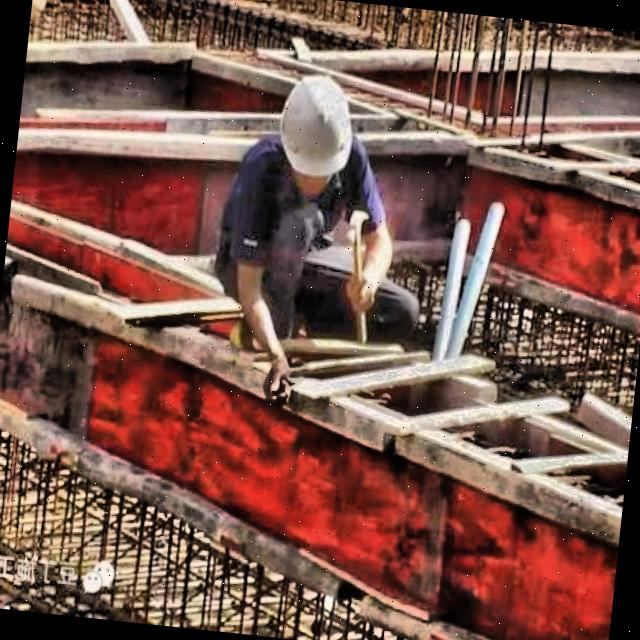helmet: (266, 57, 366, 192)
